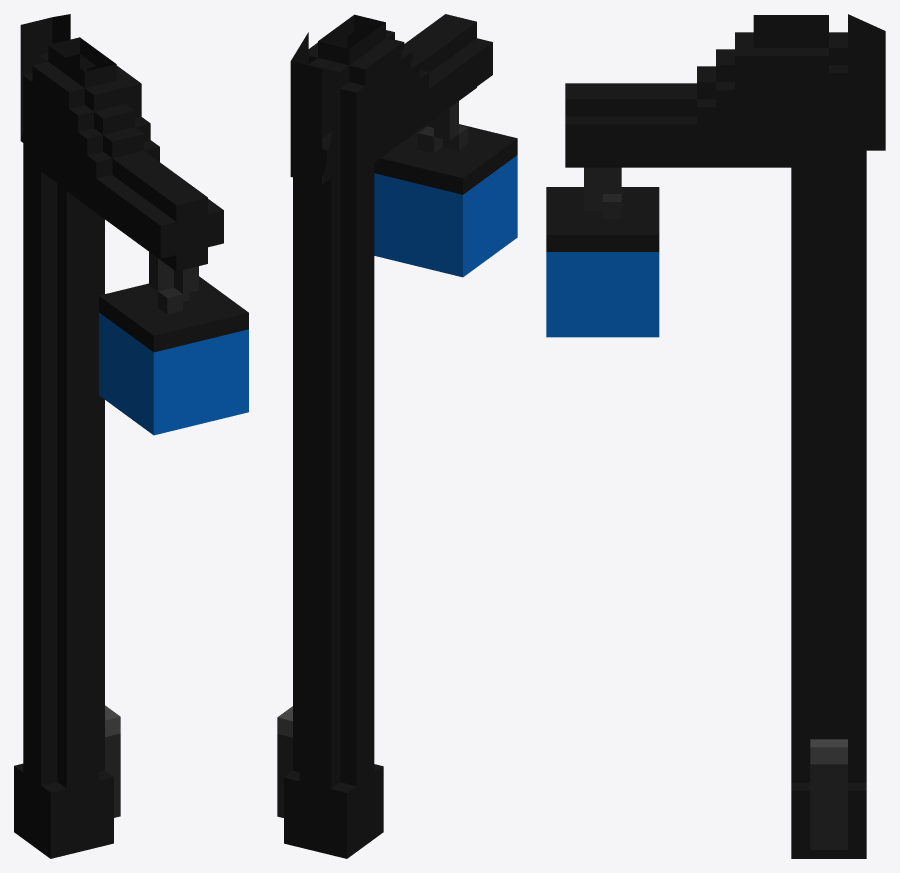
File: lamparaV.fbx
The picture shows the model from 3 angles, left to right: view 1: azimuth 30°, elevation 25°; view 2: azimuth 150°, elevation 25°; view 3: azimuth 270°, elevation 25°; orthographic projection. The views are drawn at different scales.
Parts seen in each view (by area): view 1: lampa.001; view 2: lampa.001; view 3: lampa.001.
Part boxes in pixels (x1,y1,x2,y2): lampa.001: (14,14,248,858); lampa.001: (277,14,517,858); lampa.001: (546,14,885,858).
Size of the model in its own units: 60 by 490 by 180.
1 material, 1 textured.
